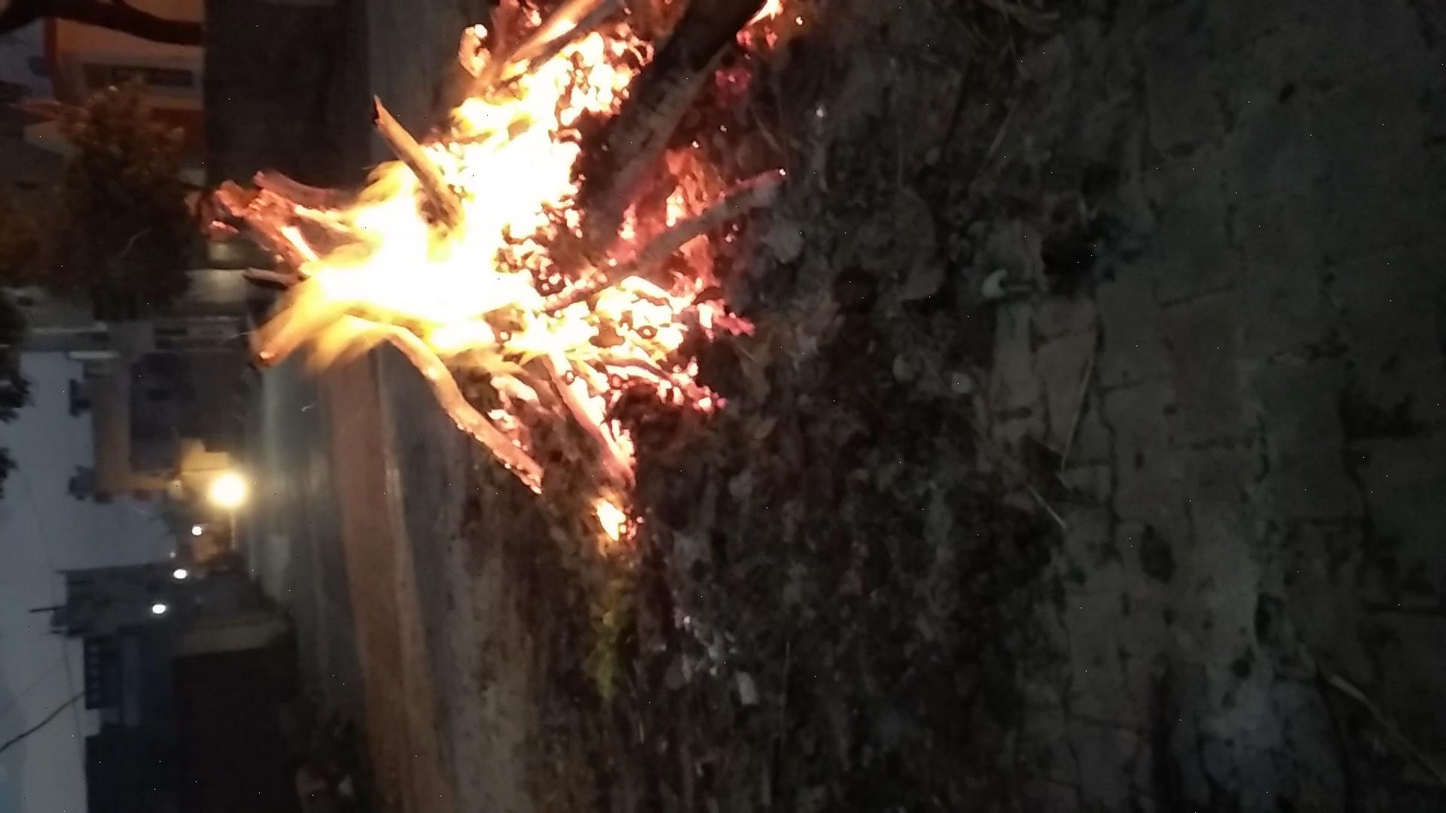fire: (510, 77, 1404, 419)
